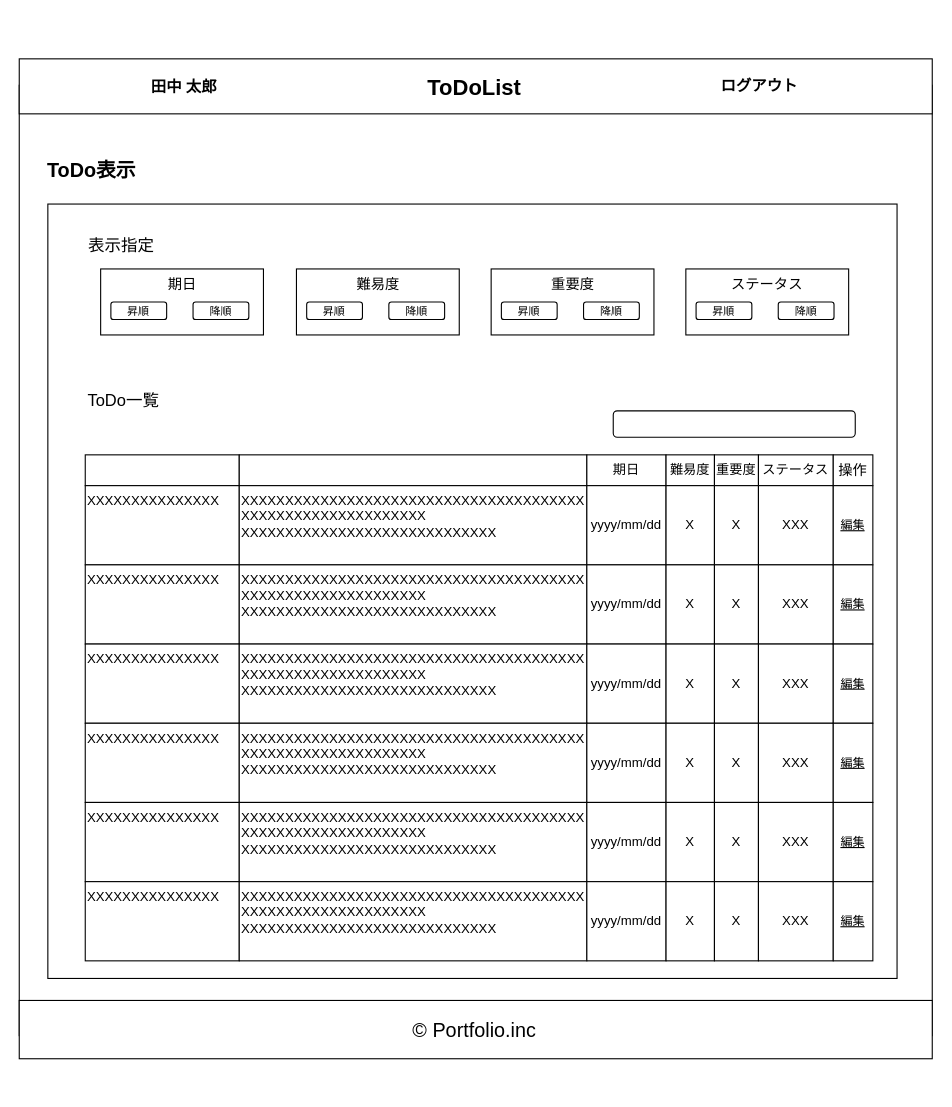
The diagram is 952 pixels wide and 1107 high, and some of its shapes have lost their labels. Here are the shapes that lost their labels. From the top down, the centre of each, then its label:
At pixel 733 423: "ToDo登録".
At pixel 161 470: "タイトル".
At pixel 412 470: "内容".
